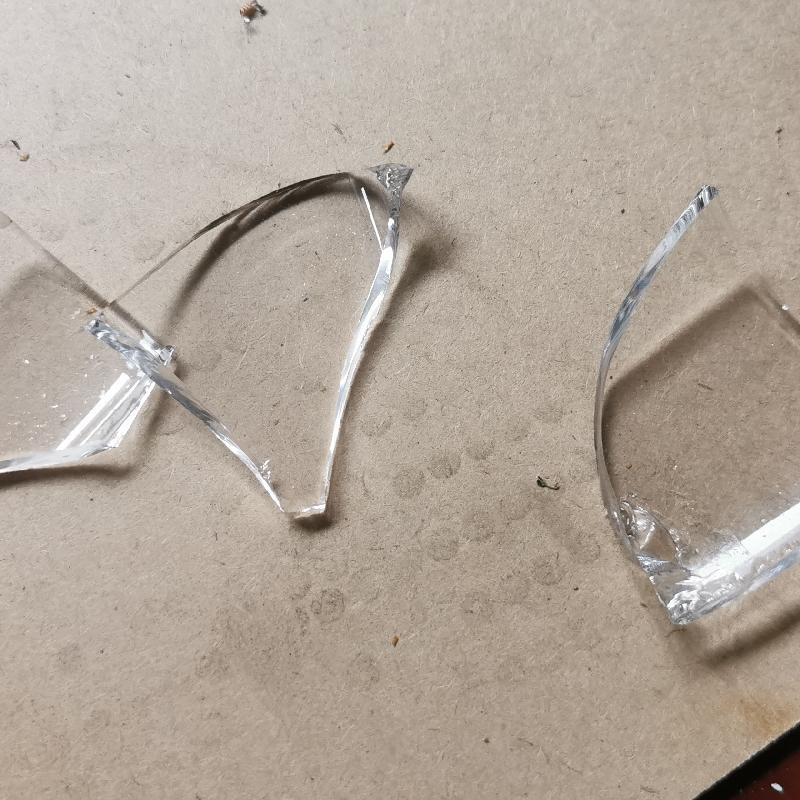glass: (4, 167, 417, 534), (588, 183, 799, 634)
